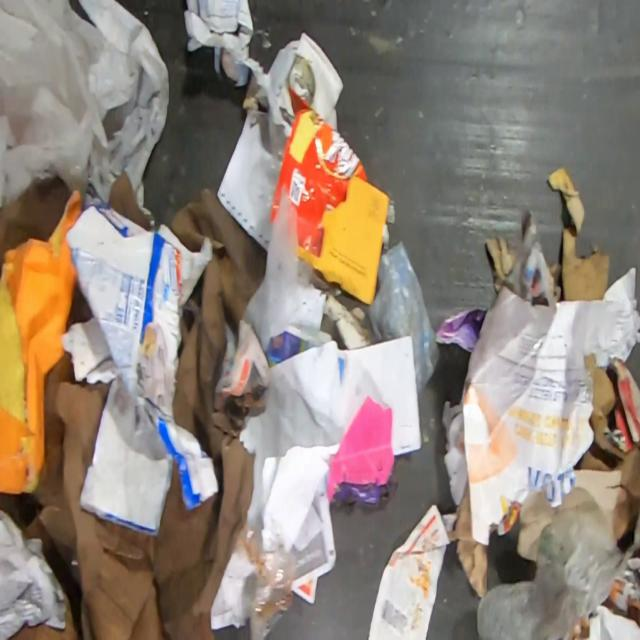cardboard: (578, 352, 640, 542), (516, 468, 624, 563), (546, 165, 610, 302), (276, 32, 344, 128)
soft_plastic: (60, 192, 220, 536), (0, 0, 171, 218), (477, 502, 625, 640), (269, 86, 370, 259), (365, 240, 441, 398), (242, 187, 312, 354), (234, 521, 298, 639)
